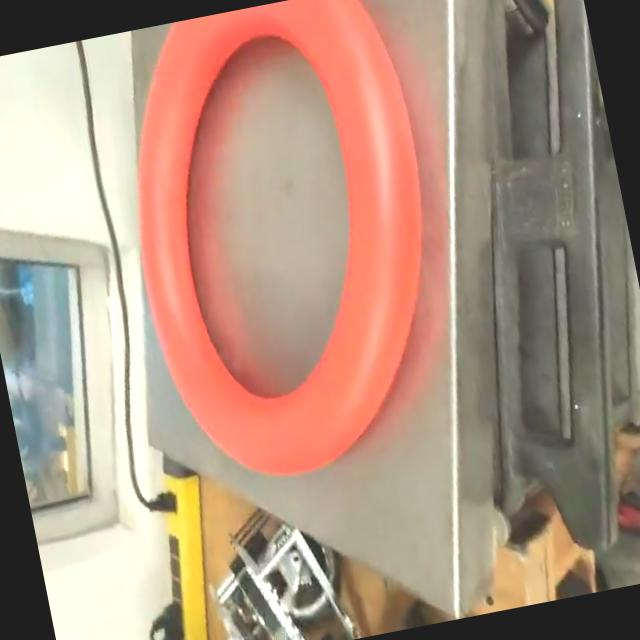note: (83, 0, 488, 502)
